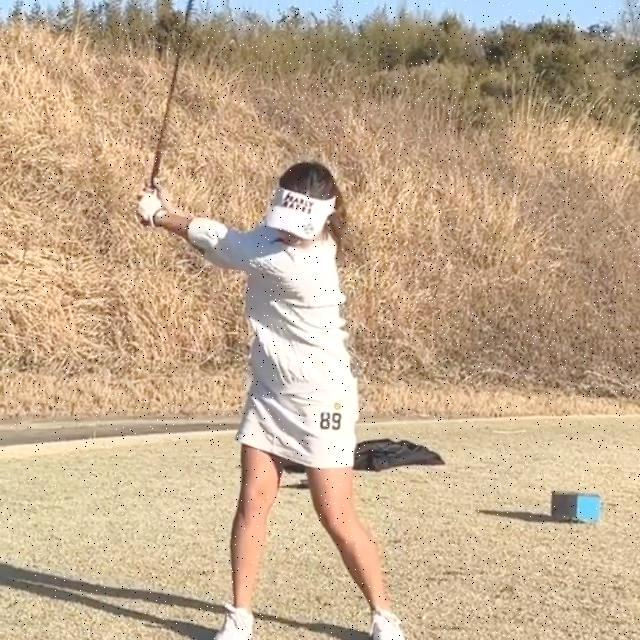golf club-handle: (138, 0, 196, 223)
